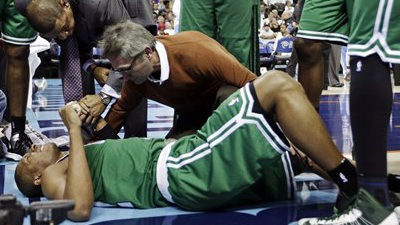fall: (7, 73, 388, 218)
